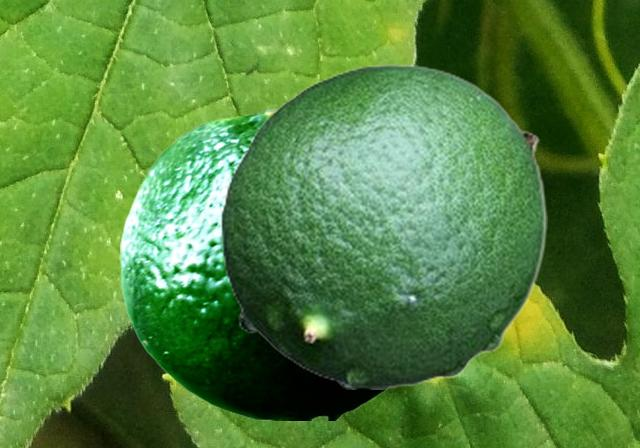calamansi: (220, 63, 546, 388), (120, 108, 390, 419)
